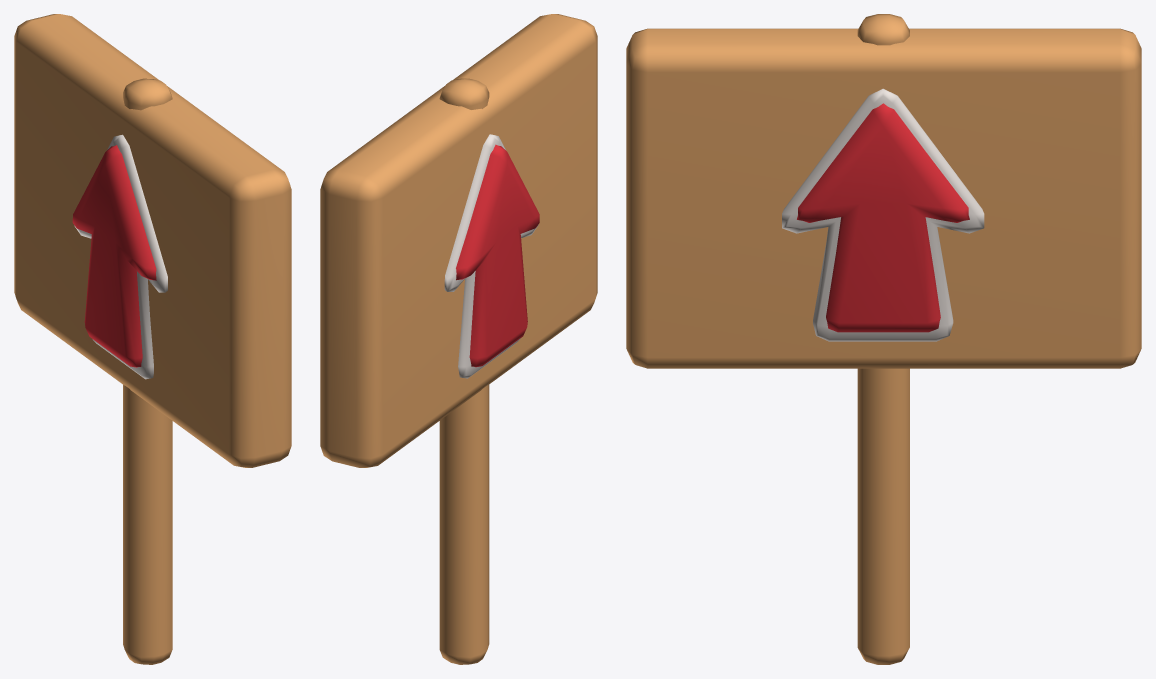
Rendered from Sign2Up.fbx.
3 views of the same model, side by side, from view 1: azimuth 30°, elevation 25°; view 2: azimuth 150°, elevation 25°; view 3: azimuth 270°, elevation 25° (orthographic). The views are drawn at different scales.
Parts seen in each view (by area): view 1: polySurface7; view 2: polySurface7; view 3: polySurface7.
Boxes of the visible parts, left/top/right/bottom form: polySurface7: left=14, top=14, right=291, bottom=664; polySurface7: left=320, top=14, right=597, bottom=664; polySurface7: left=626, top=14, right=1141, bottom=664.
Size of the model in its own units: 0.8546 by 4.98 by 3.62.
